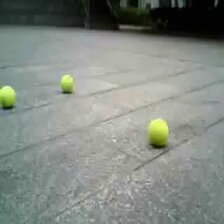tennis: (146, 118, 169, 147), (1, 86, 16, 108), (60, 74, 73, 91)
